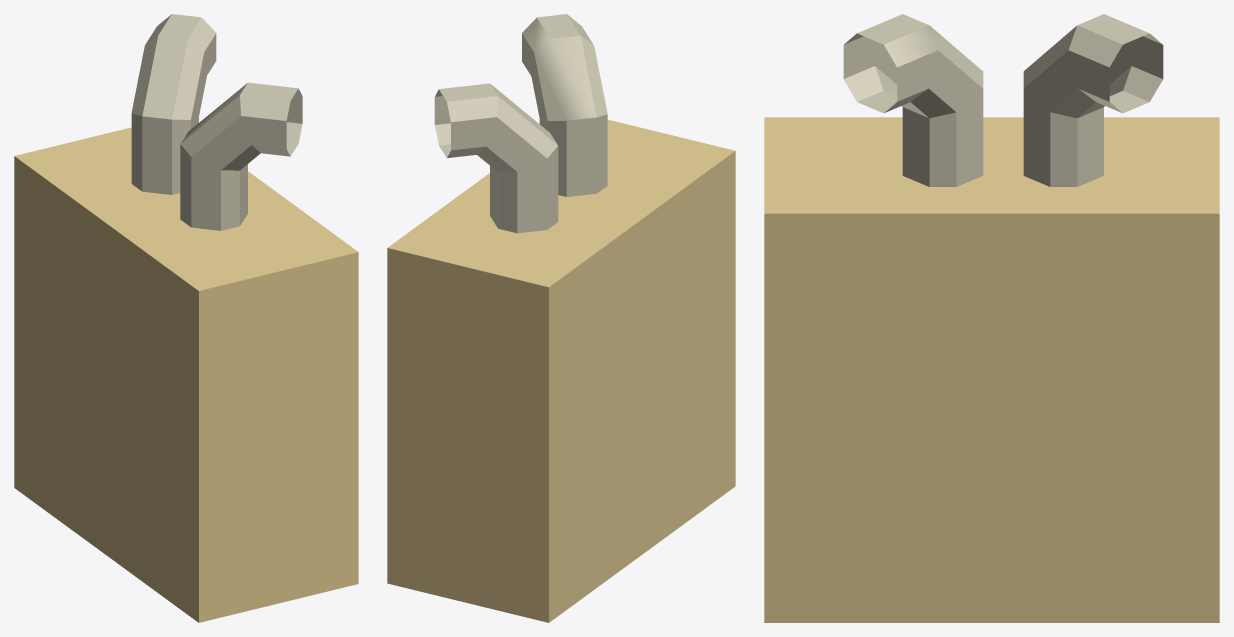
The model's file is HeatPump.glb.
3 renders of one model, left to right at view 1: azimuth 30°, elevation 25°; view 2: azimuth 150°, elevation 25°; view 3: azimuth 270°, elevation 25°, orthographic. The views are drawn at different scales.
Visible parts, largest first — view 1: ヒートポンプ_Resized; view 2: ヒートポンプ_Resized; view 3: ヒートポンプ_Resized.
Boxes of the visible parts, x1,y1,x2,y2 form: ヒートポンプ_Resized: (14, 14, 358, 622); ヒートポンプ_Resized: (387, 14, 735, 622); ヒートポンプ_Resized: (764, 14, 1219, 622).
Size of the model in its own units: 0.6 by 1.66 by 1.2.
